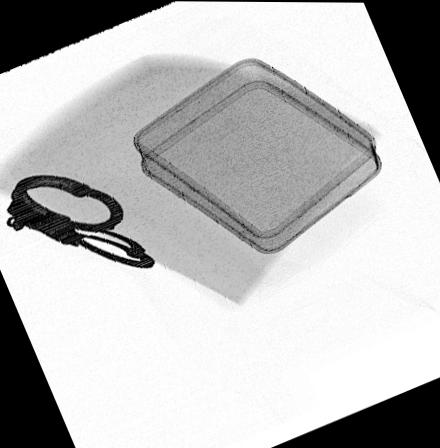HandCuffs: (4, 173, 155, 270)
